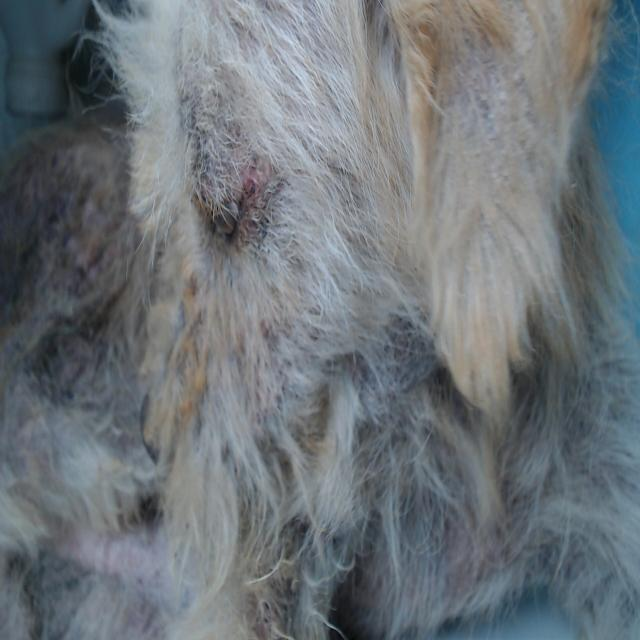demodicosis: (242, 161, 273, 207)
